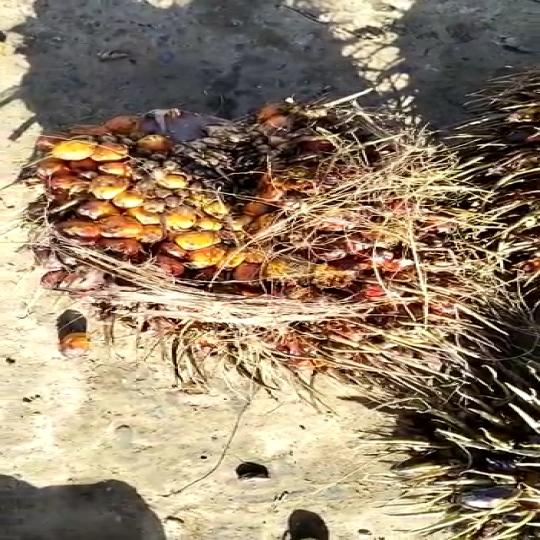terlalu masak: (0, 94, 507, 360)
